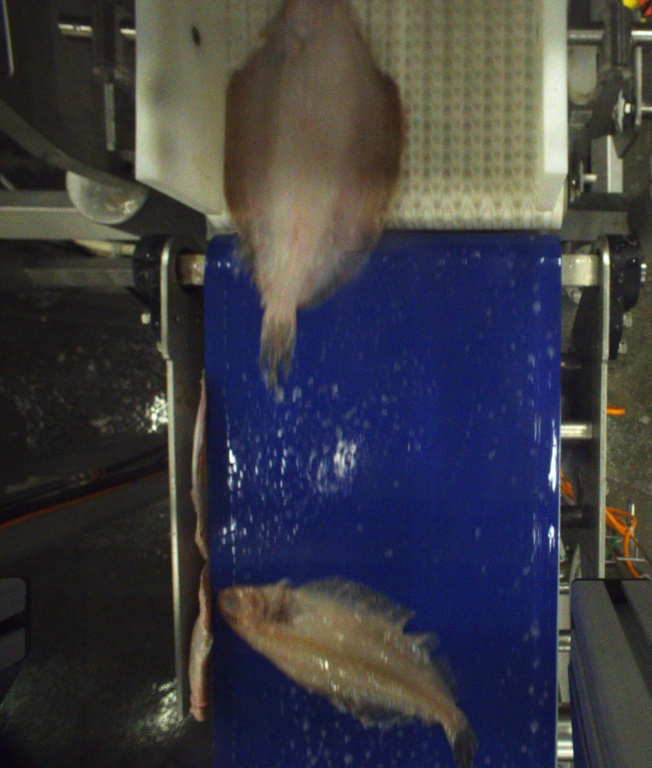WIT: (223, 0, 400, 397)
